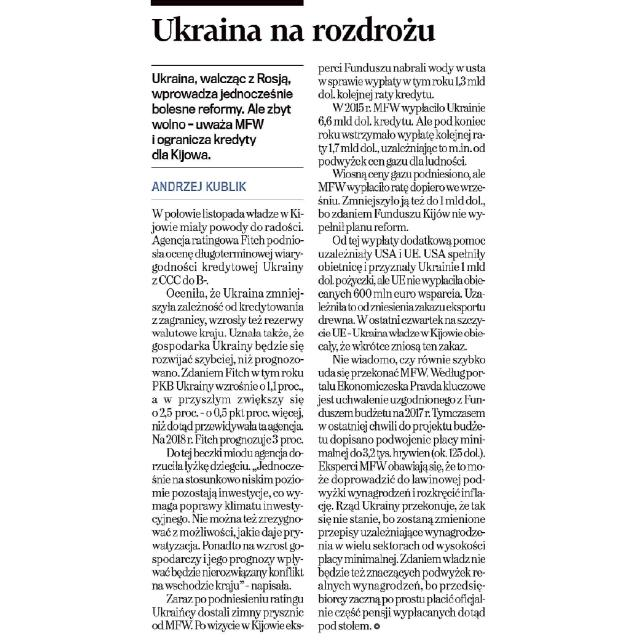author: (149, 175, 251, 198)
body: (312, 58, 488, 636), (150, 205, 308, 635)
lead: (150, 68, 298, 164)
title: (150, 8, 446, 52)
